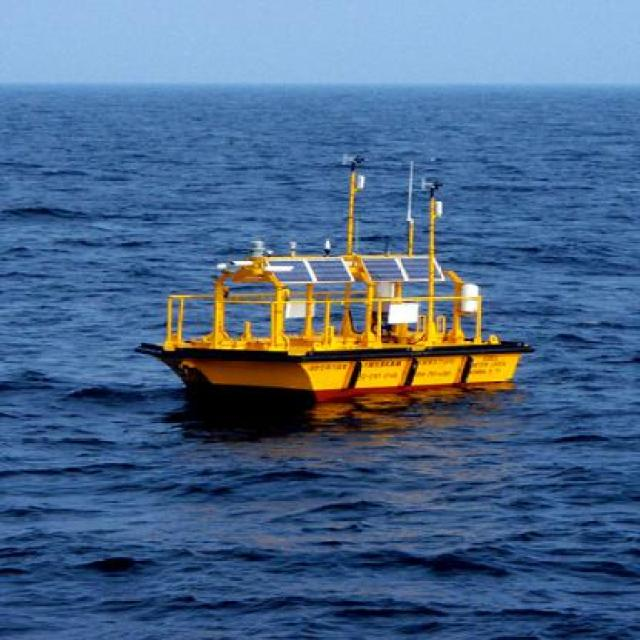buoy: (123, 141, 543, 427)
